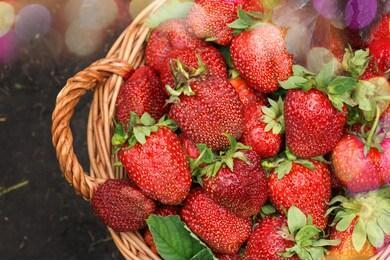Fresa: (114, 121, 195, 209), (167, 69, 247, 155), (195, 140, 273, 220), (265, 154, 340, 237), (279, 77, 351, 162), (226, 17, 300, 98), (90, 177, 160, 235)
